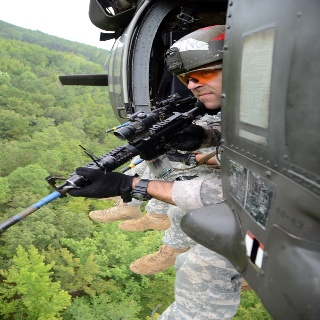rifle: (1, 89, 204, 240)
